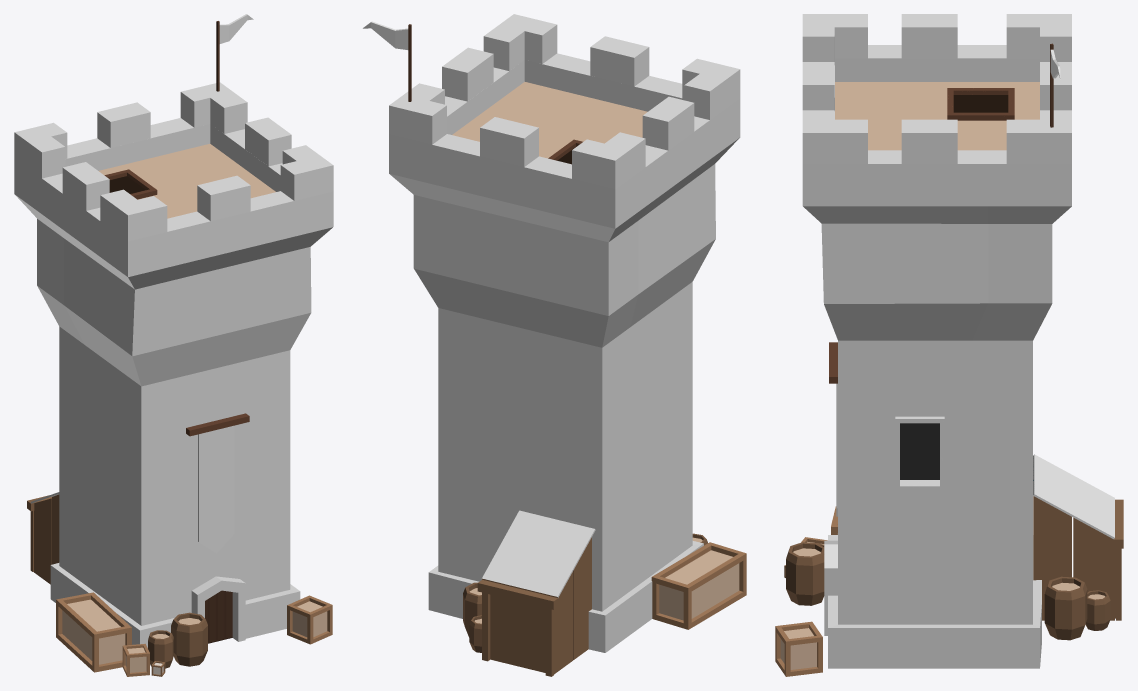
File: tower.gltf
3 renders of one model, left to right at view 1: azimuth 30°, elevation 25°; view 2: azimuth 150°, elevation 25°; view 3: azimuth 270°, elevation 25°, orthographic. The views are drawn at different scales.
Parts seen in each view (by area): view 1: Tower; view 2: Tower; view 3: Tower.
Part boxes in pixels (left/top/right/bottom): Tower: left=14, top=14, right=333, bottom=676; Tower: left=363, top=14, right=746, bottom=676; Tower: left=775, top=14, right=1123, bottom=676.
Size of the model in its own units: 4 by 8 by 4.
Materials: 2 (1 with a texture image).
